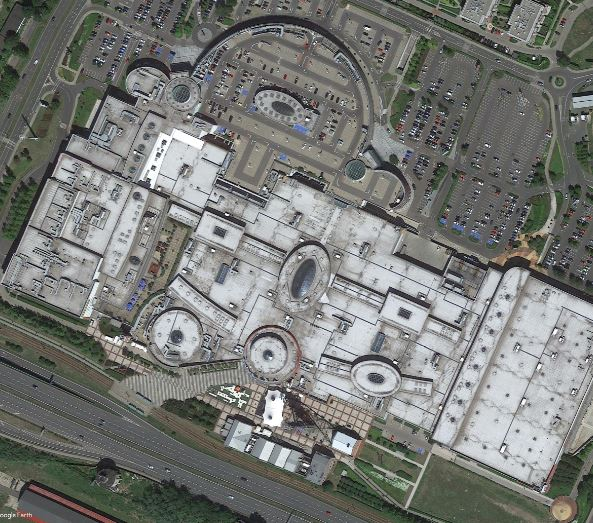shopping_center: (4, 15, 593, 498)
